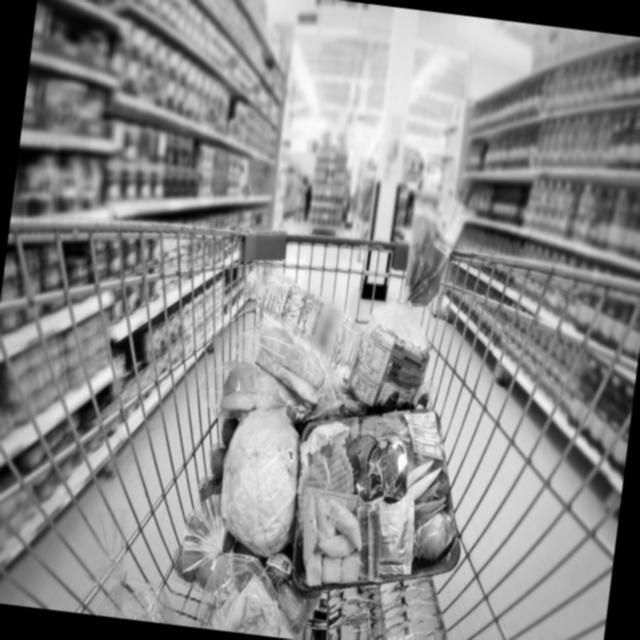banh mi: (348, 204, 468, 418), (208, 567, 310, 640)
bap cai: (216, 400, 312, 558)
dau: (231, 266, 371, 374)
trung: (178, 411, 248, 588)
